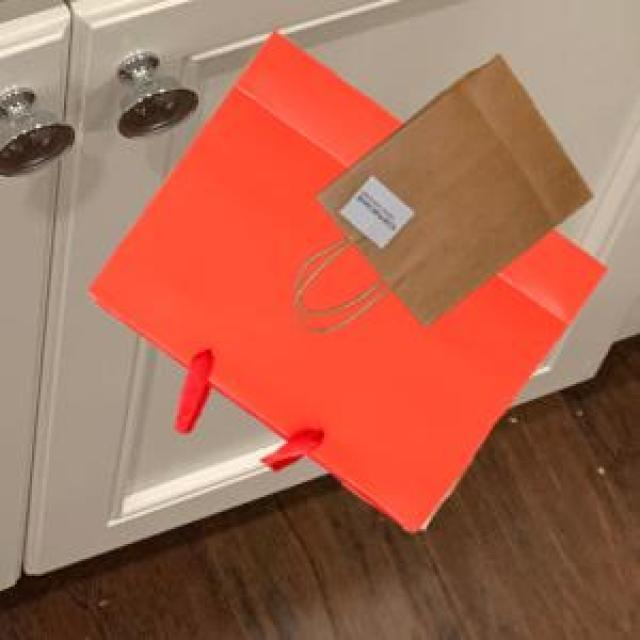paper: (83, 26, 604, 527), (312, 51, 589, 322)
